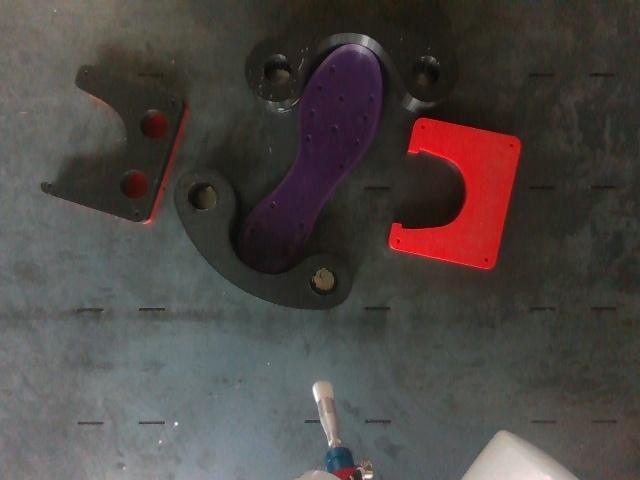shoes: (239, 46, 381, 270)
